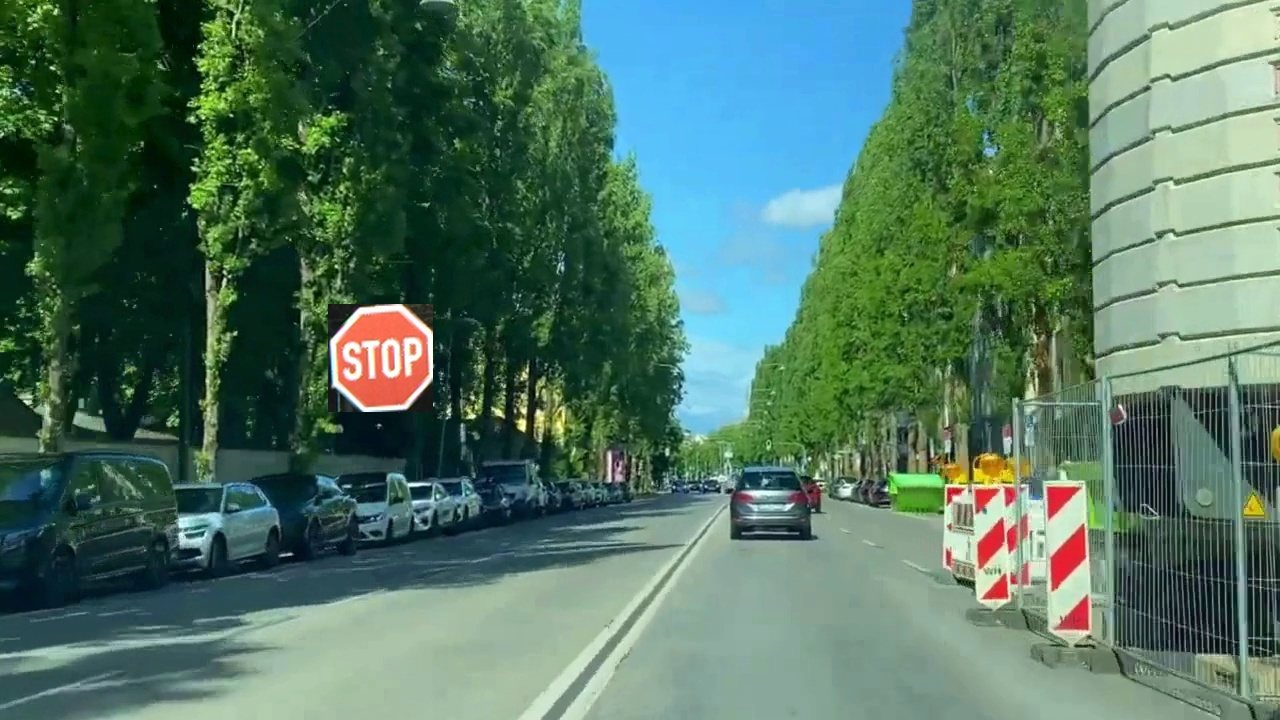Stop: (328, 304, 433, 412)
